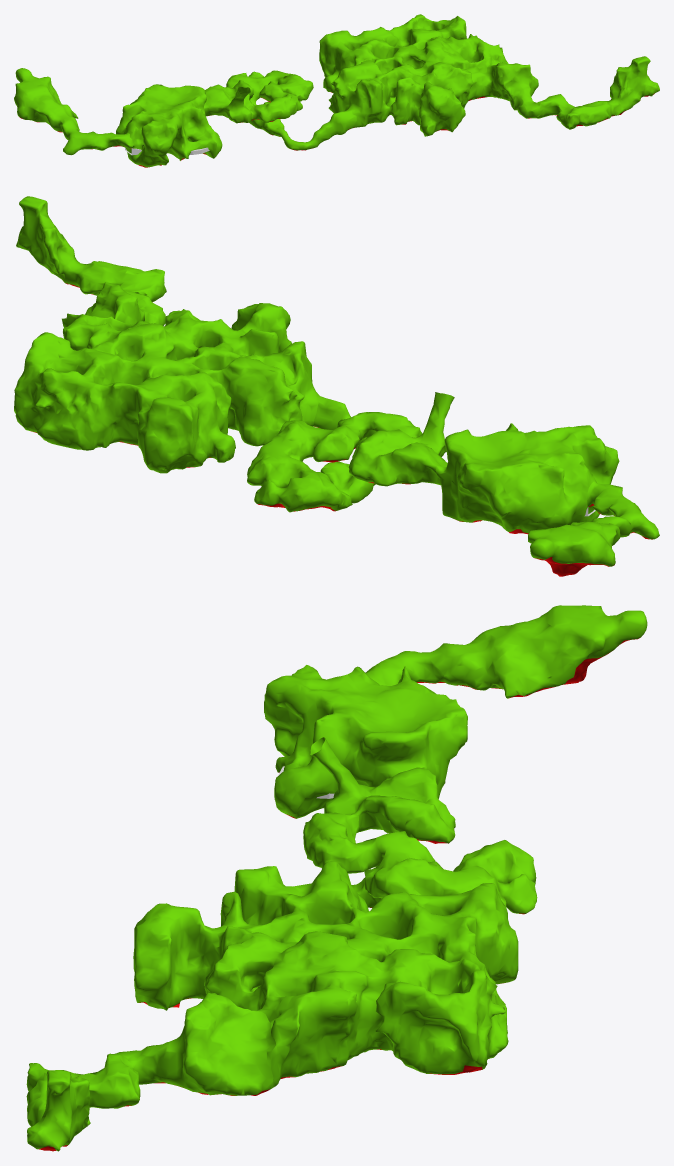
Rendered from Cave2.FBX.
3 renders of one model, top to bottom at view 1: azimuth 30°, elevation 25°; view 2: azimuth 150°, elevation 25°; view 3: azimuth 270°, elevation 25°, orthographic. The views are drawn at different scales.
Visible parts, largest first — view 1: room_02, room_05, room_01, room_03, room_06, room_04; view 2: room_02, room_05, room_03, room_01, room_06, room_04; view 3: room_02, room_05, room_01, room_06, room_03, room_04.
Part boxes in pixels (x1,y1,x2,y2): room_02: [319, 14, 506, 136]; room_05: [116, 84, 222, 167]; room_01: [481, 56, 659, 129]; room_03: [226, 70, 356, 150]; room_06: [14, 68, 134, 155]; room_04: [204, 80, 254, 123]; room_02: [14, 303, 319, 473]; room_05: [435, 423, 619, 534]; room_03: [247, 395, 422, 512]; room_01: [16, 196, 166, 325]; room_06: [528, 481, 659, 576]; room_04: [348, 392, 454, 486]; room_02: [133, 861, 518, 1088]; room_05: [264, 665, 467, 818]; room_01: [26, 992, 276, 1151]; room_06: [365, 605, 647, 698]; room_03: [303, 812, 537, 914]; room_04: [310, 737, 455, 843].
Size of the model in its own units: 23881 by 2946 by 12524.
